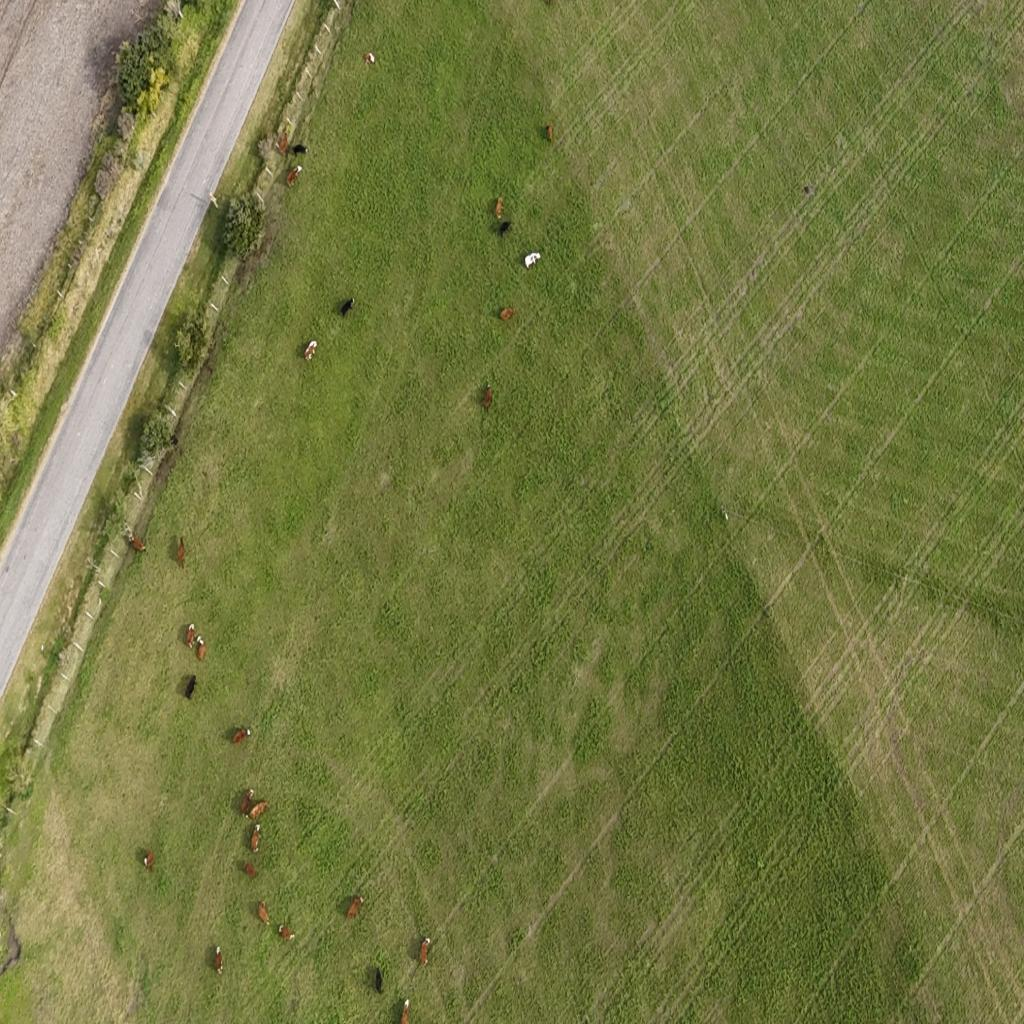cow: (419, 935, 435, 971), (173, 534, 189, 568), (347, 894, 365, 920), (233, 725, 253, 746), (303, 336, 319, 360), (249, 800, 269, 819), (278, 921, 296, 942), (286, 165, 303, 187), (241, 788, 254, 816), (481, 382, 493, 412), (130, 532, 146, 553), (500, 305, 518, 323), (250, 824, 261, 853), (258, 900, 270, 926), (214, 945, 224, 975), (185, 673, 196, 700), (340, 297, 354, 317), (524, 252, 541, 268), (186, 623, 196, 650), (400, 998, 410, 1024), (196, 637, 206, 661), (279, 130, 289, 154), (364, 48, 376, 68), (498, 220, 512, 237), (143, 850, 154, 870), (290, 144, 308, 156), (375, 968, 383, 994), (244, 862, 256, 878), (495, 196, 503, 220), (546, 124, 553, 143)
